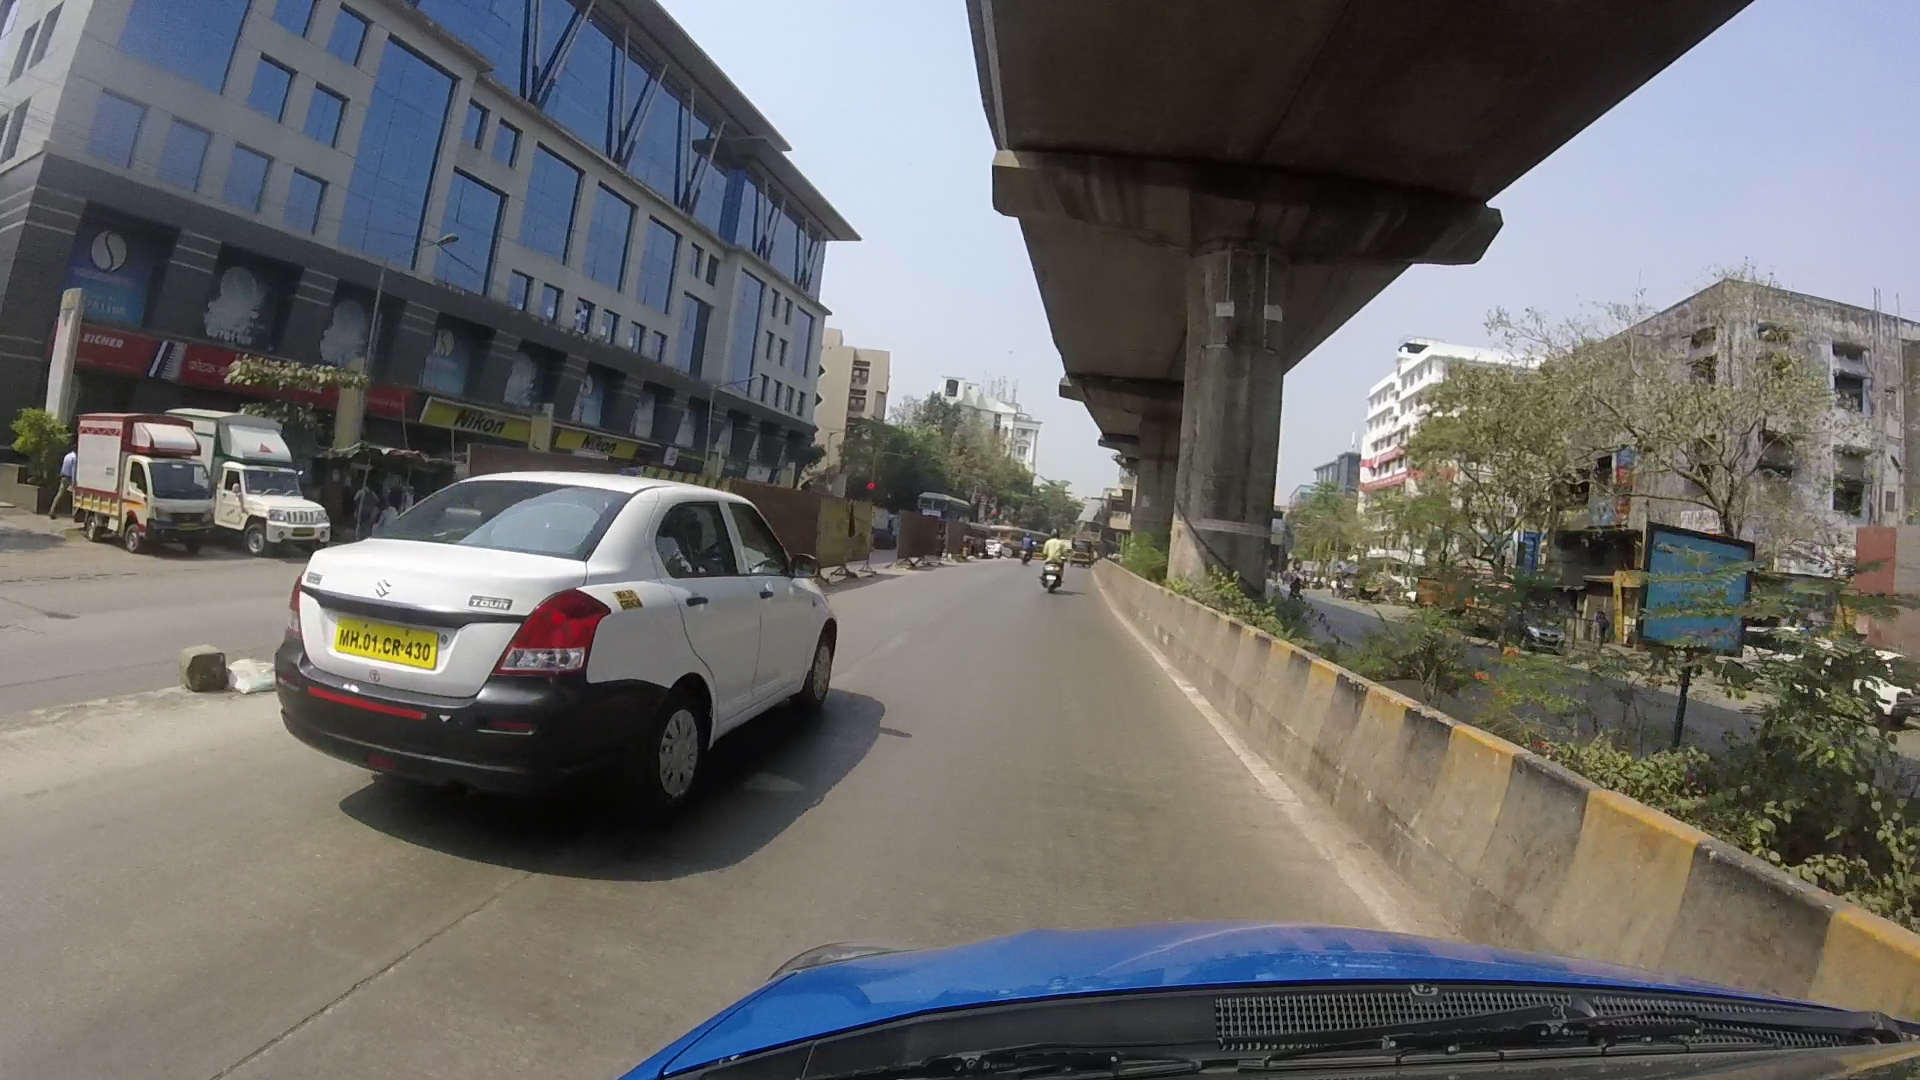bike/scooter: (1025, 524, 1083, 599)
car: (277, 477, 862, 800)
truck: (58, 407, 225, 556), (185, 396, 330, 546)
